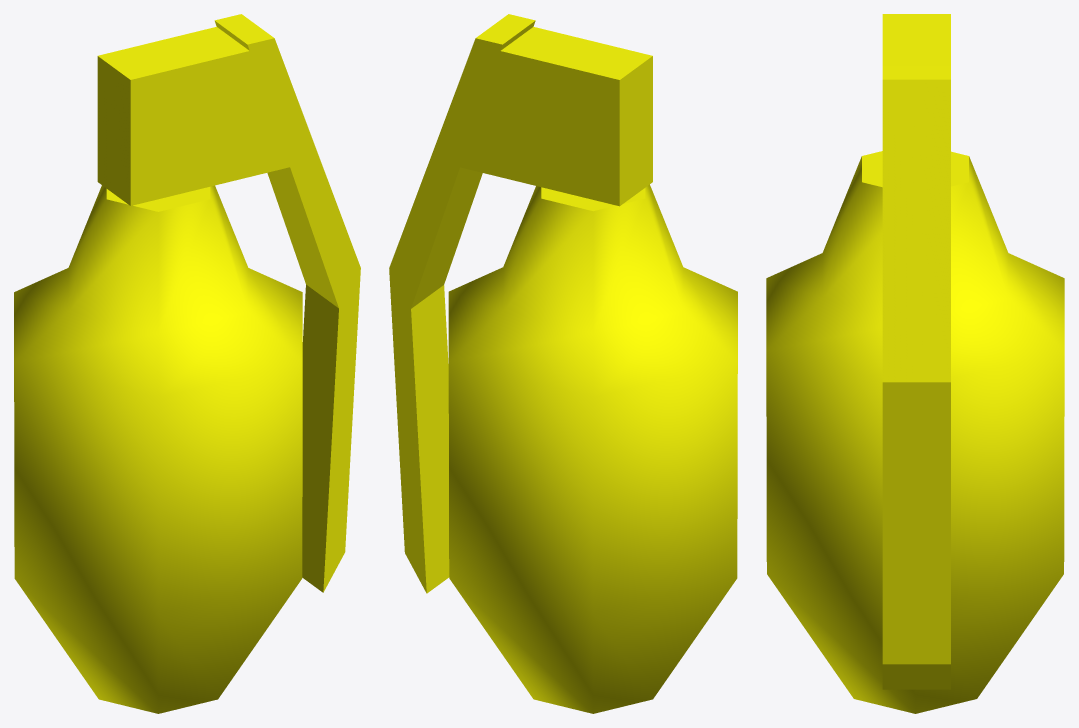
The model's file is projectile_grenade_US.glb.
3 renders of one model, left to right at view 1: azimuth 30°, elevation 25°; view 2: azimuth 150°, elevation 25°; view 3: azimuth 270°, elevation 25°, orthographic. The views are drawn at different scales.
Parts seen in each view (by area): view 1: projectile_grenade_US; view 2: projectile_grenade_US; view 3: projectile_grenade_US.
Part boxes in pixels (x1=…): projectile_grenade_US: x1=14, y1=14, x2=360, y2=713; projectile_grenade_US: x1=389, y1=14, x2=737, y2=713; projectile_grenade_US: x1=766, y1=14, x2=1064, y2=713.
Size of the model in its own units: 0.2114 by 0.3868 by 0.1597.
1 material, 1 textured.
